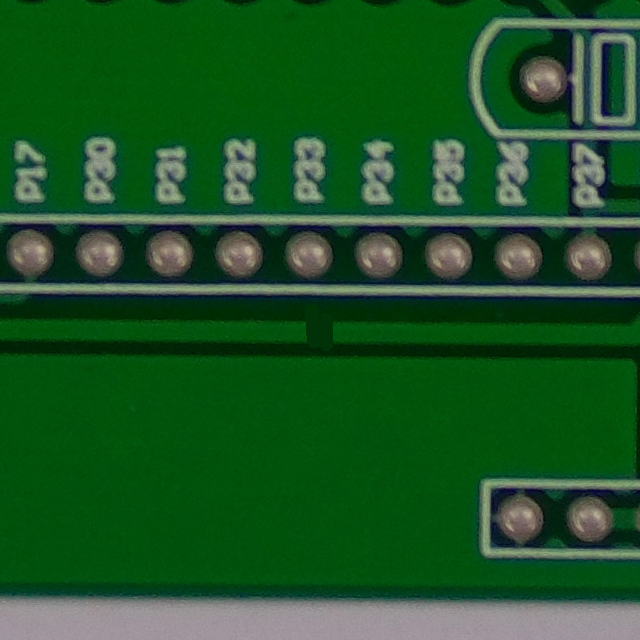open_circuit: (294, 311, 347, 350)
